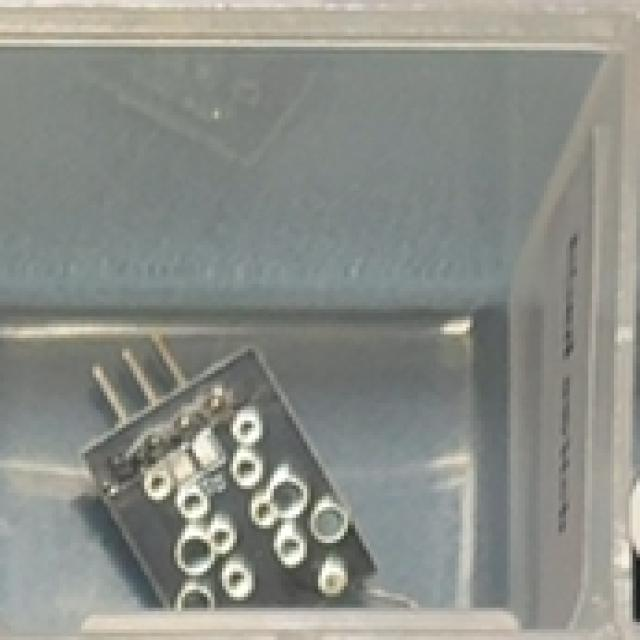Reed Switch: (80, 325, 382, 640)
